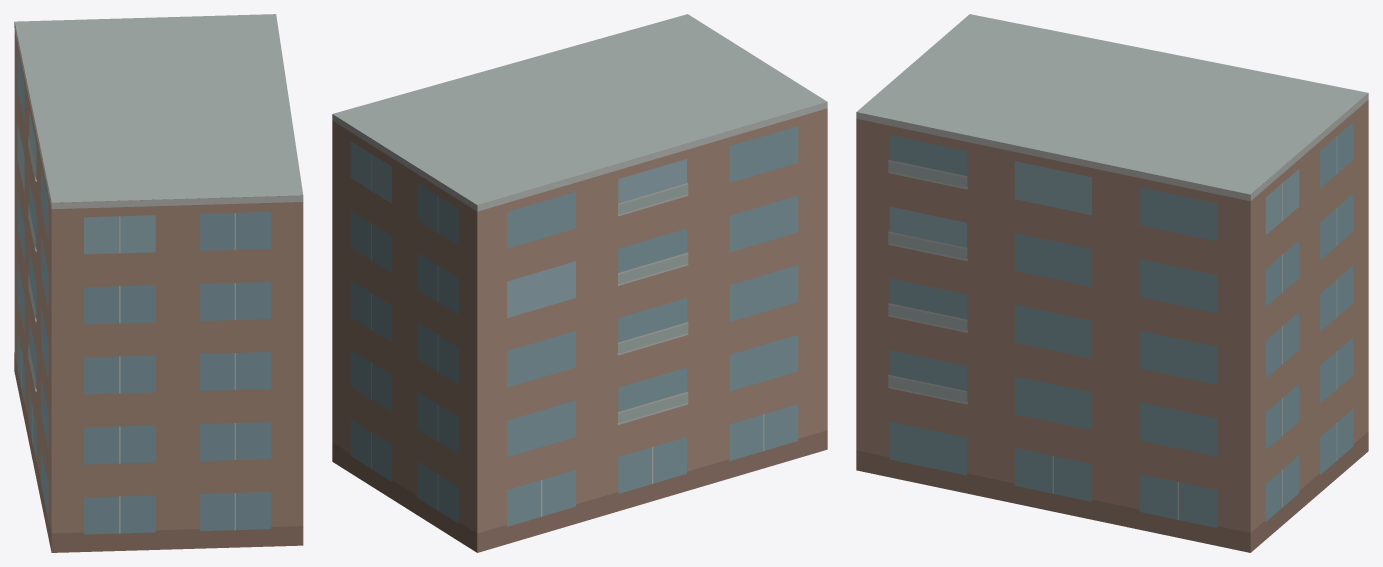
Rendered from survey-upis-32885360.glb.
The picture shows the model from 3 angles, left to right: view 1: azimuth 30°, elevation 25°; view 2: azimuth 150°, elevation 25°; view 3: azimuth 270°, elevation 25°; orthographic projection. The views are drawn at different scales.
Parts seen in each view (by area): view 1: survey-upis-32885360.tmp; view 2: survey-upis-32885360.tmp; view 3: survey-upis-32885360.tmp.
Boxes of the visible parts, left/top/right/bottom form: survey-upis-32885360.tmp: left=14, top=14, right=303, bottom=552; survey-upis-32885360.tmp: left=332, top=14, right=827, bottom=552; survey-upis-32885360.tmp: left=856, top=14, right=1368, bottom=552.
Size of the model in its own units: 14.17 by 13.1 by 16.98.
